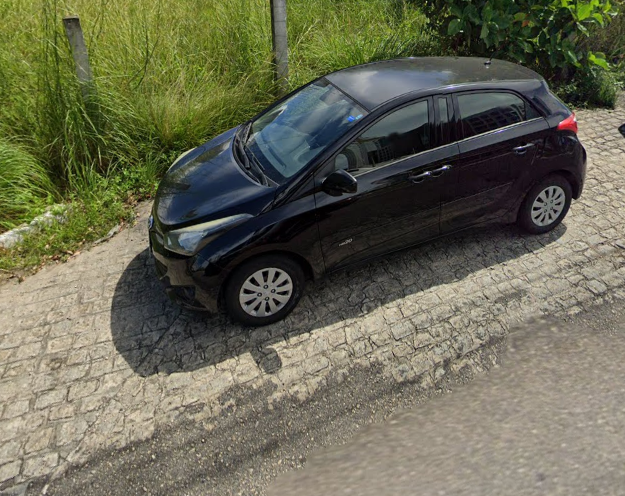car: (143, 39, 590, 329)
